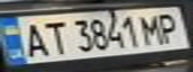1: (121, 12, 142, 47)
3: (69, 16, 93, 52)
4: (106, 15, 127, 49)
8: (87, 16, 109, 52)
A: (15, 19, 51, 58)
M: (136, 11, 166, 46)
P: (154, 10, 187, 44)
T: (36, 18, 69, 56)
